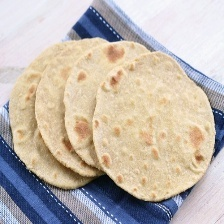roti: (6, 34, 221, 203)
